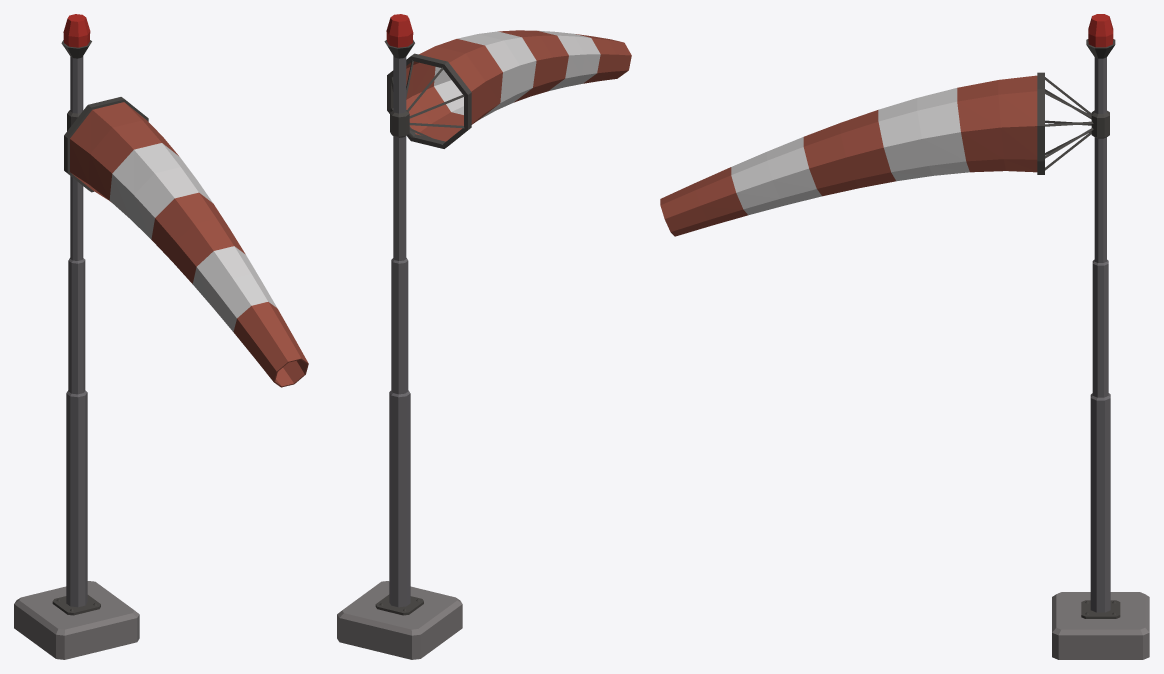
Rendered from windsock-d5df79.glb.
The picture shows the model from 3 angles, left to right: view 1: azimuth 30°, elevation 25°; view 2: azimuth 150°, elevation 25°; view 3: azimuth 270°, elevation 25°; orthographic projection.
Parts seen in each view (by area): view 1: sock-frame, mast-body; view 2: mast-body, sock-frame; view 3: sock-frame, mast-body.
Boxes of the visible parts, <box> form: sock-frame: <box>64,97,308,387</box>; mast-body: <box>14,14,139,659</box>; mast-body: <box>337,14,462,659</box>; sock-frame: <box>387,30,631,148</box>; sock-frame: <box>660,72,1109,236</box>; mast-body: <box>1052,14,1149,659</box>.
Bounding box in the file's own units: 0.9 × 6.33 × 4.51.
